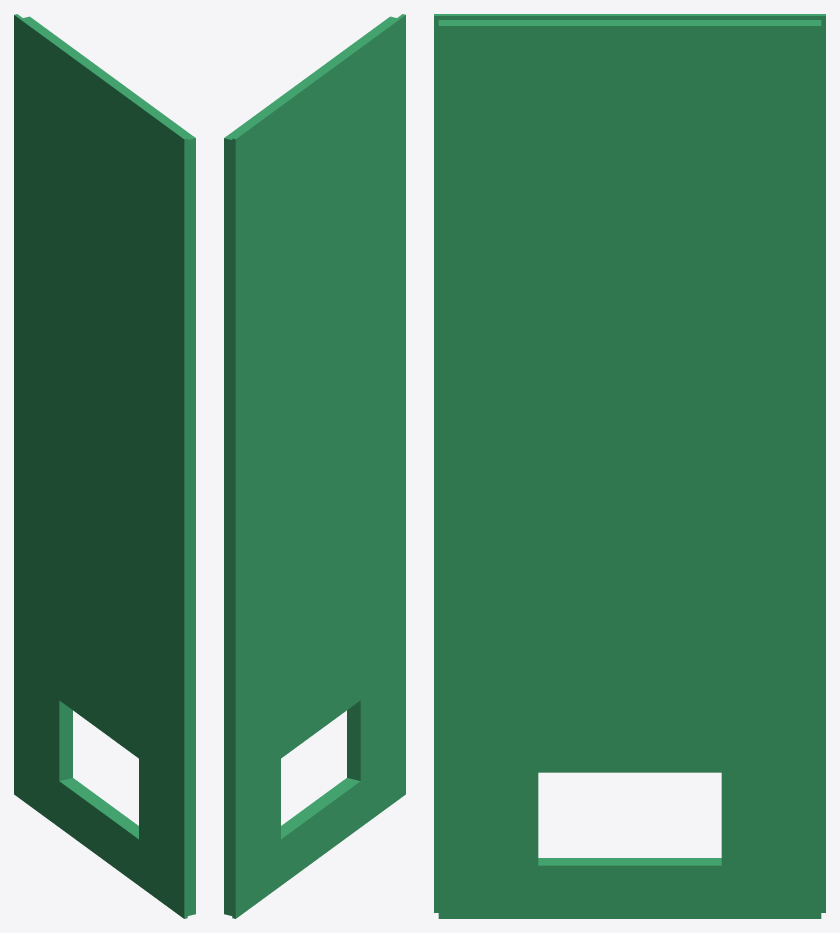
The model's file is door.fbx.
3 views of the same model, side by side, from view 1: azimuth 30°, elevation 25°; view 2: azimuth 150°, elevation 25°; view 3: azimuth 270°, elevation 25° (orthographic). The views are drawn at different scales.
Parts seen in each view (by area): view 1: door; view 2: door; view 3: door.
Boxes of the visible parts, <box> form: door: <box>14,14,195,918</box>; door: <box>224,14,405,918</box>; door: <box>434,14,825,918</box>.
Bounding box in the file's own units: 4 × 216 × 85.47.
